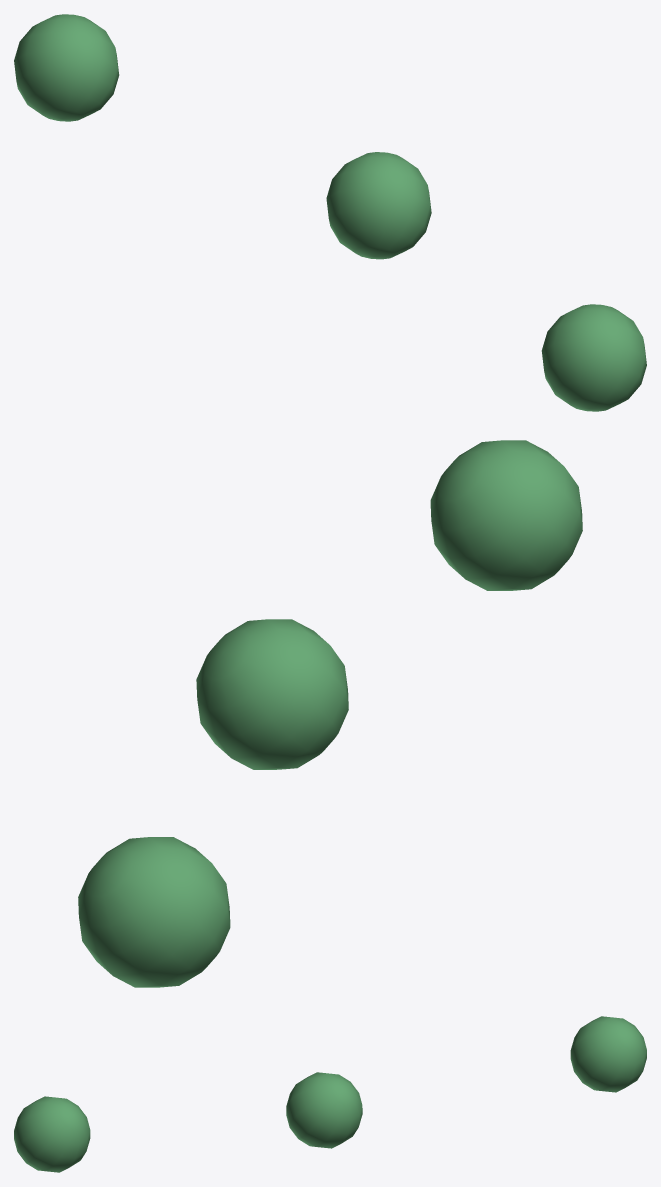
The picture shows the model from 3 angles, top to bottom: view 1: azimuth 30°, elevation 25°; view 2: azimuth 150°, elevation 25°; view 3: azimuth 270°, elevation 25°; orthographic projection. The views are drawn at different scales.
Parts seen in each view (by area): view 1: 右侧气管前淋巴结; view 2: 右侧气管前淋巴结; view 3: 右侧气管前淋巴结.
Boxes of the visible parts, <box> form: 右侧气管前淋巴结: <box>14,14,646,411</box>; 右侧气管前淋巴结: <box>78,440,582,987</box>; 右侧气管前淋巴结: <box>14,1016,646,1172</box>.
Size of the model in its own units: 0.00957 by 0.00543 by 0.0312.
